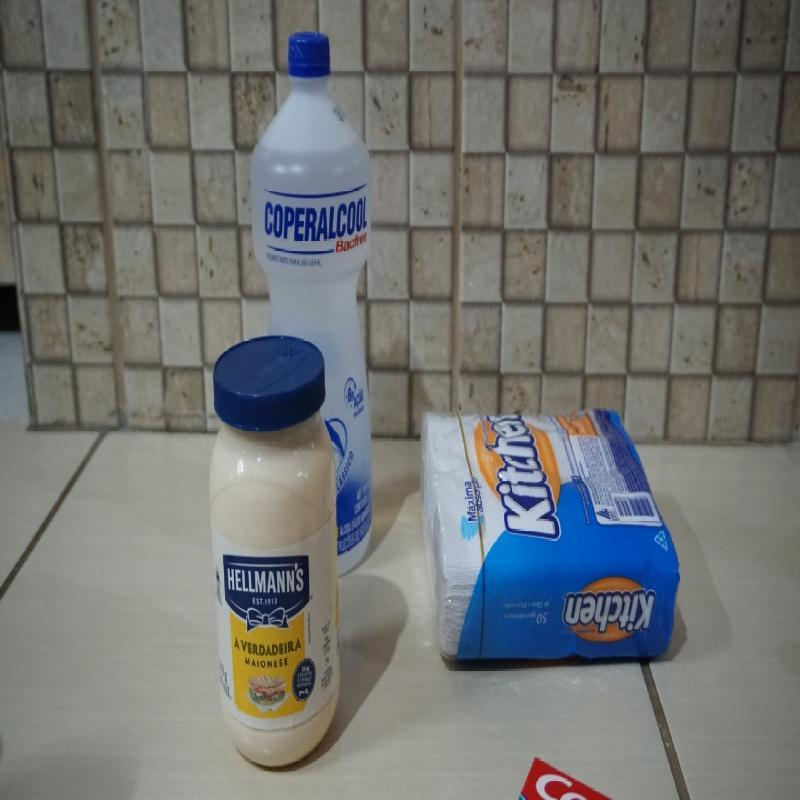Alcohol Bottle: (250, 27, 372, 578)
Mayonnaise: (212, 333, 340, 774)
Napkin: (420, 410, 682, 664)
Toothpaste: (520, 740, 612, 800)
